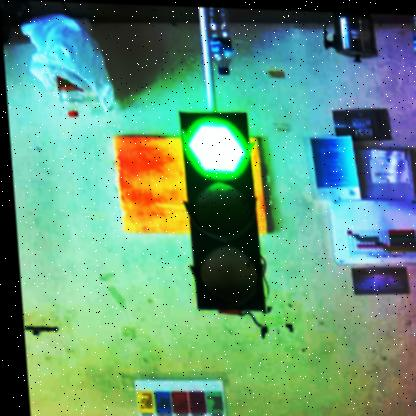Traffic Light -Green-: (176, 109, 259, 309)
